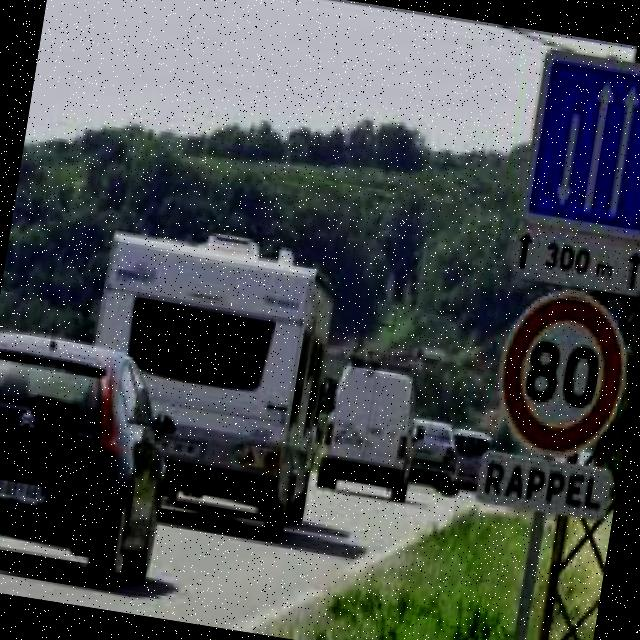Ograniczenie predkosci do 80: (482, 280, 640, 474)
